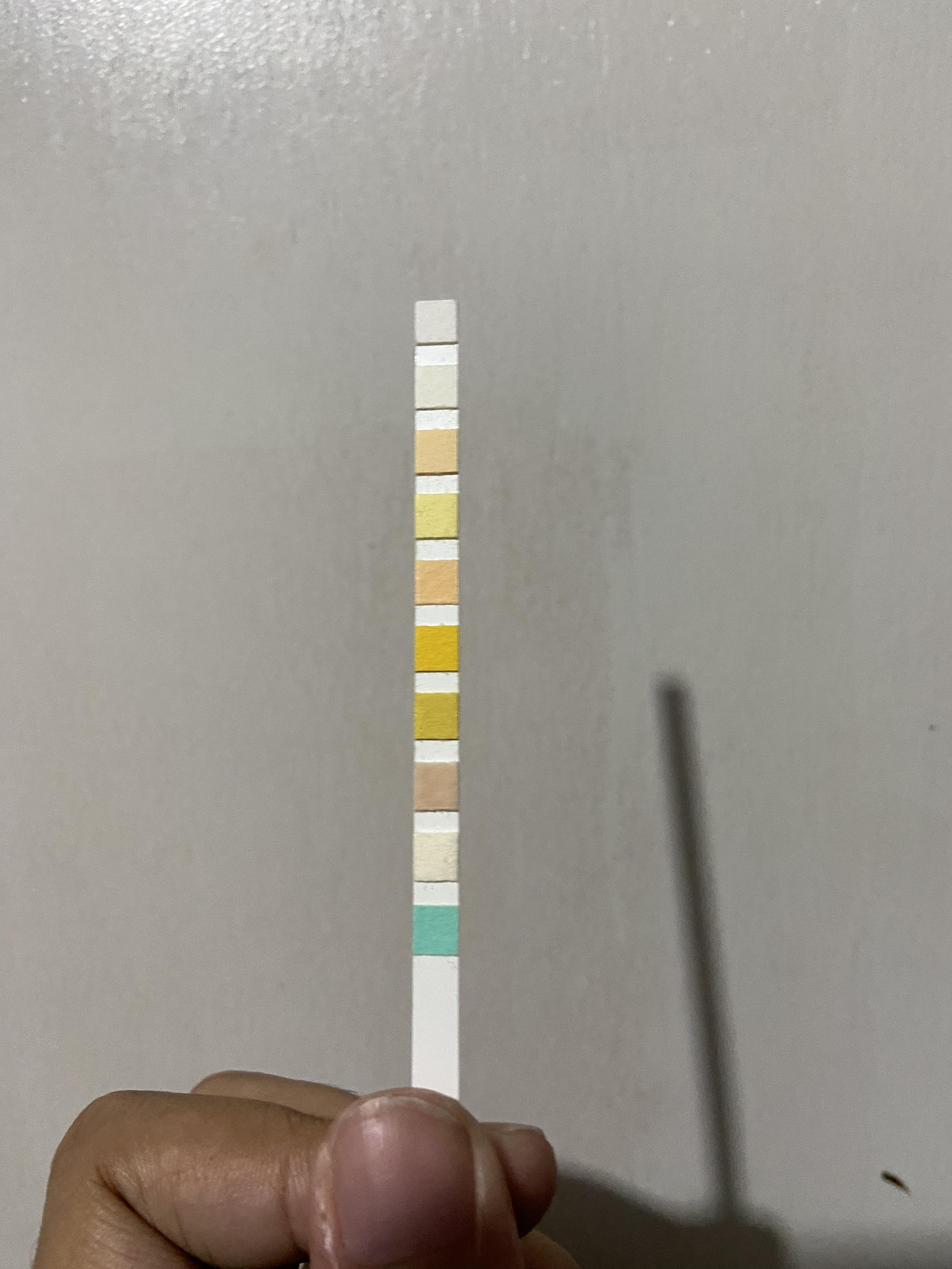Bilirubin: (416, 835, 456, 881)
Blood: (418, 627, 456, 668)
Glucose: (415, 906, 458, 956)
Ketone: (416, 765, 456, 809)
Leukocytes: (417, 305, 455, 341)
Nitrite: (418, 370, 456, 406)
Protein: (418, 497, 456, 535)
SpGravity: (417, 695, 456, 737)
Urobilinogen: (418, 433, 456, 470)
pH: (417, 564, 456, 601)
strip: (412, 300, 459, 1083)
